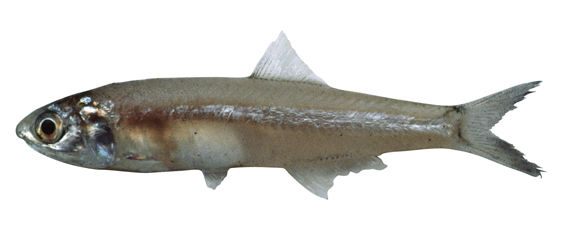fish: (16, 31, 546, 202)
